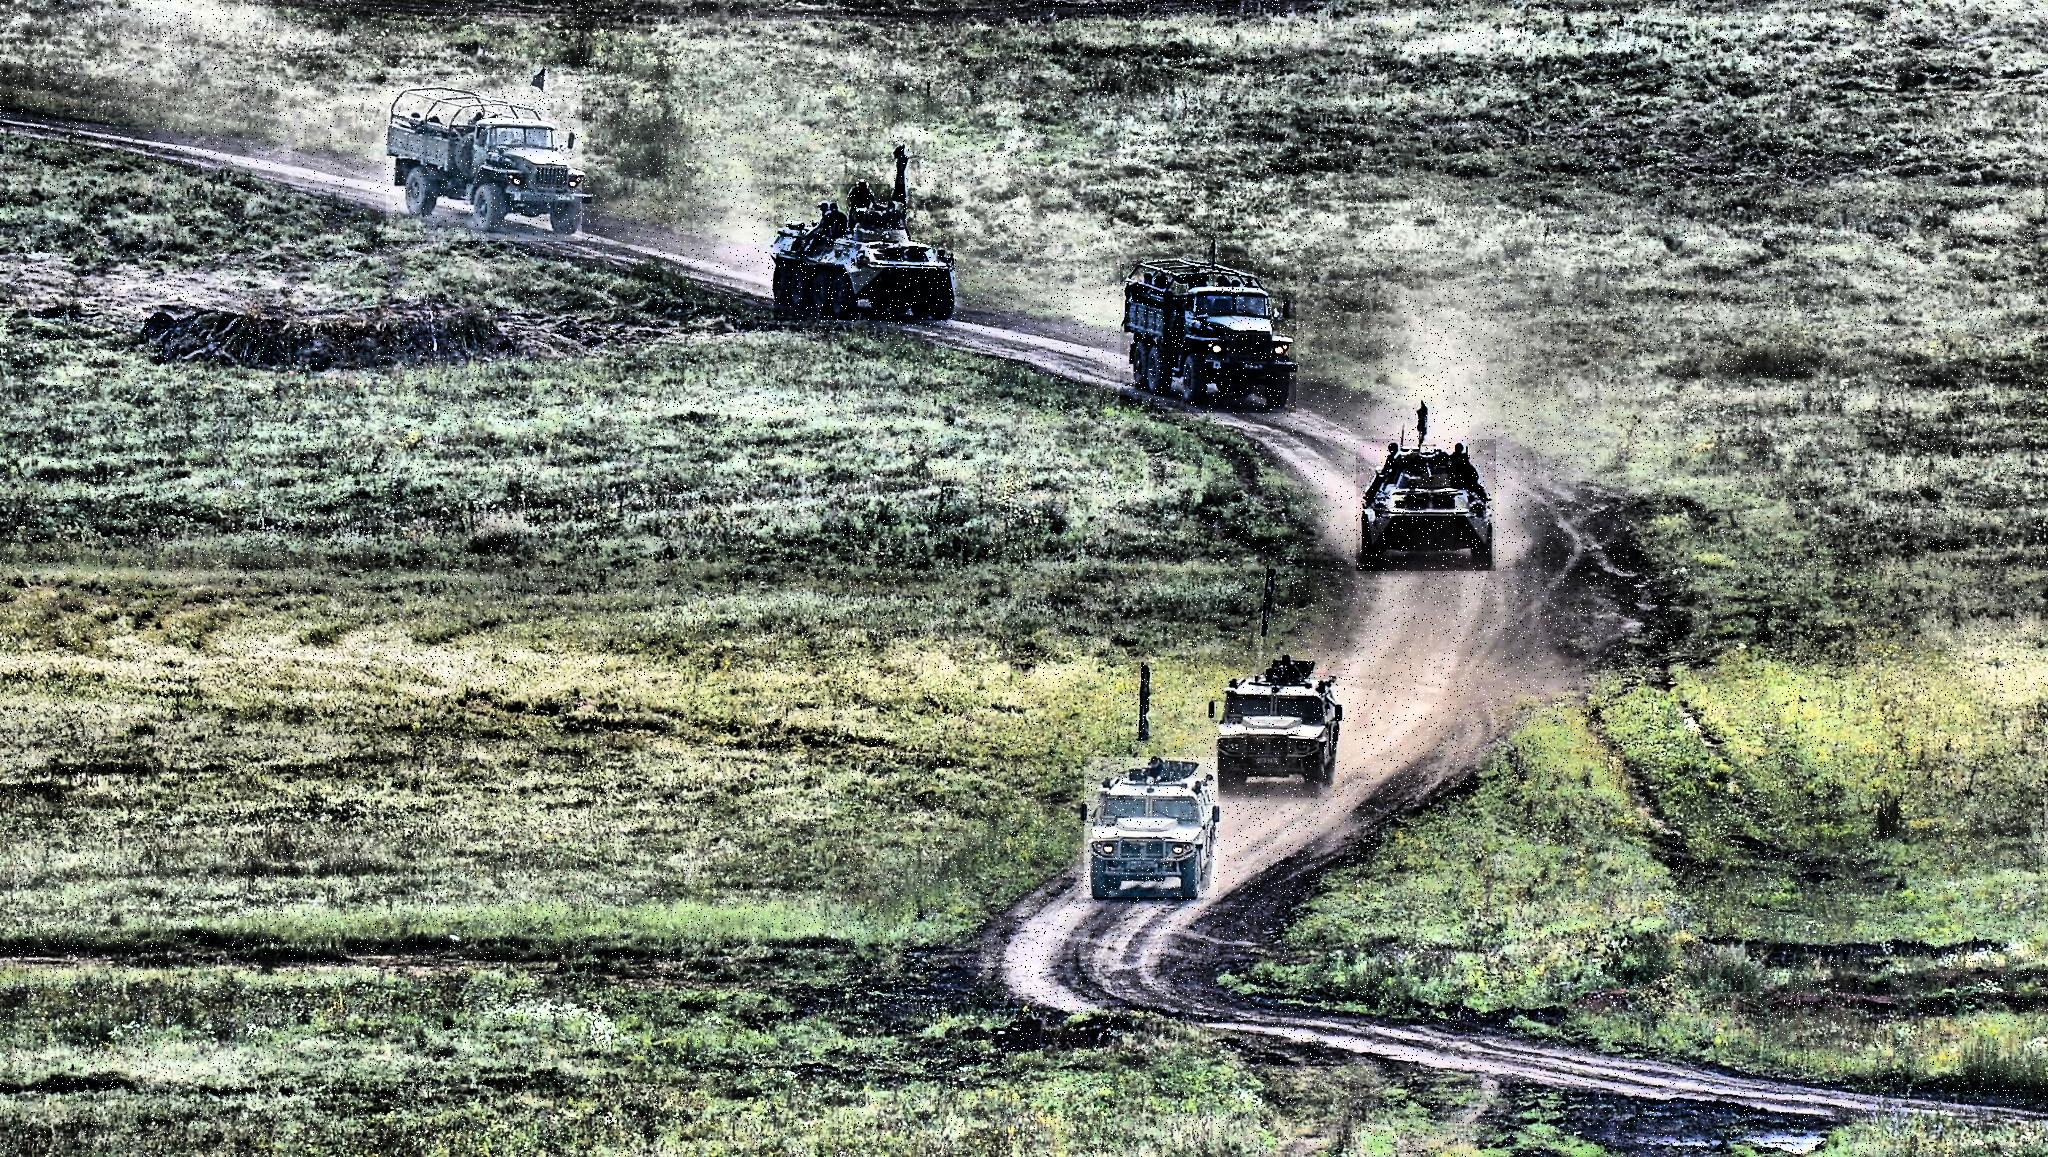military-vehicle: (386, 75, 582, 241), (1120, 261, 1296, 413), (774, 184, 954, 320), (1084, 757, 1218, 897), (1356, 439, 1496, 571), (1212, 660, 1344, 798)
